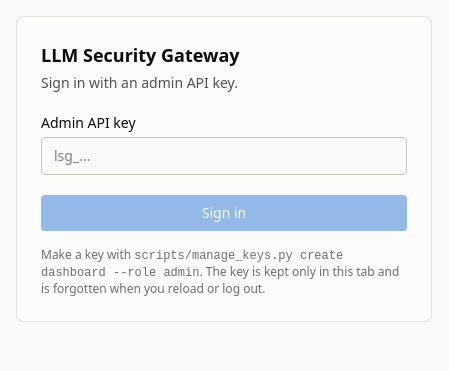
Test: signing in › says when the key is wrong
Step 1. Type "lsg_wrong" into the password field labelled "Admin API key" → (224, 156), box [41,137,407,175]
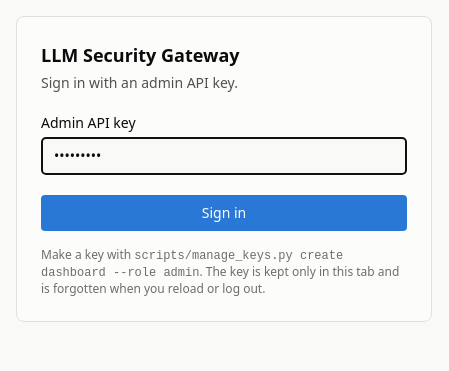
Step 2. Click the button "Sign in" → (224, 213), box [41,195,407,231]
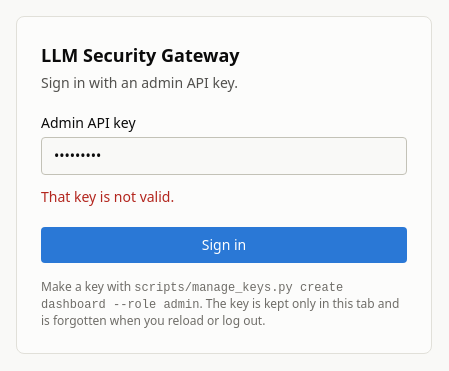
Check: the message reads "That key is not valid.", box [41,187,174,206]
